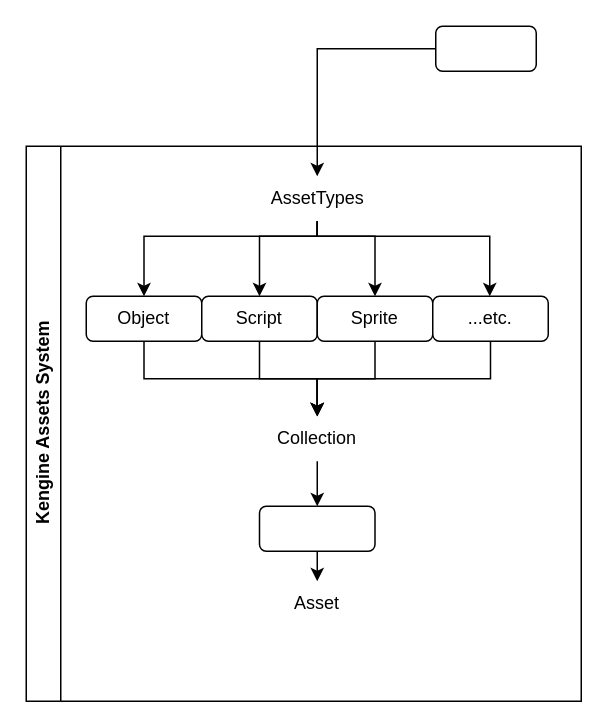
This 608x728 diagram has some shape labels left out. Here are the shapes that lost their labels. From the top down, the centre of each, then its label:
At (485,48): "Kengine".
At (316,528): "Assets".
